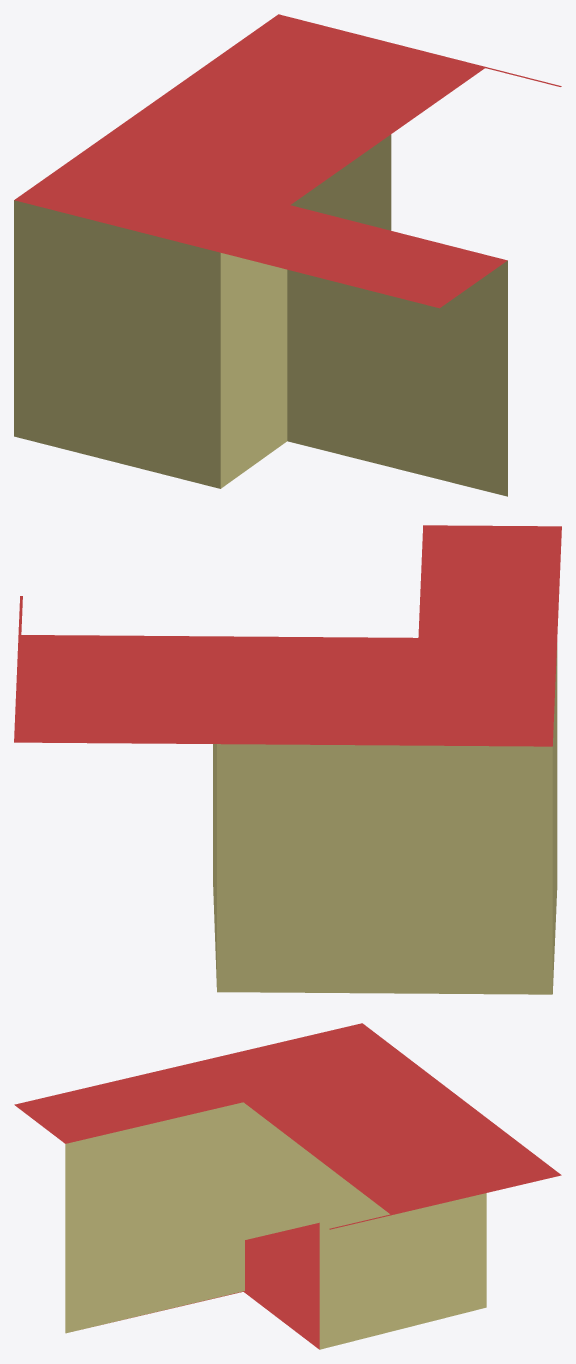
3 views of the same model, one above another, from view 1: azimuth 30°, elevation 25°; view 2: azimuth 150°, elevation 25°; view 3: azimuth 270°, elevation 25° (orthographic). The views are drawn at different scales.
Size of the model in its own units: 13.96 by 15.65 by 5.97.
